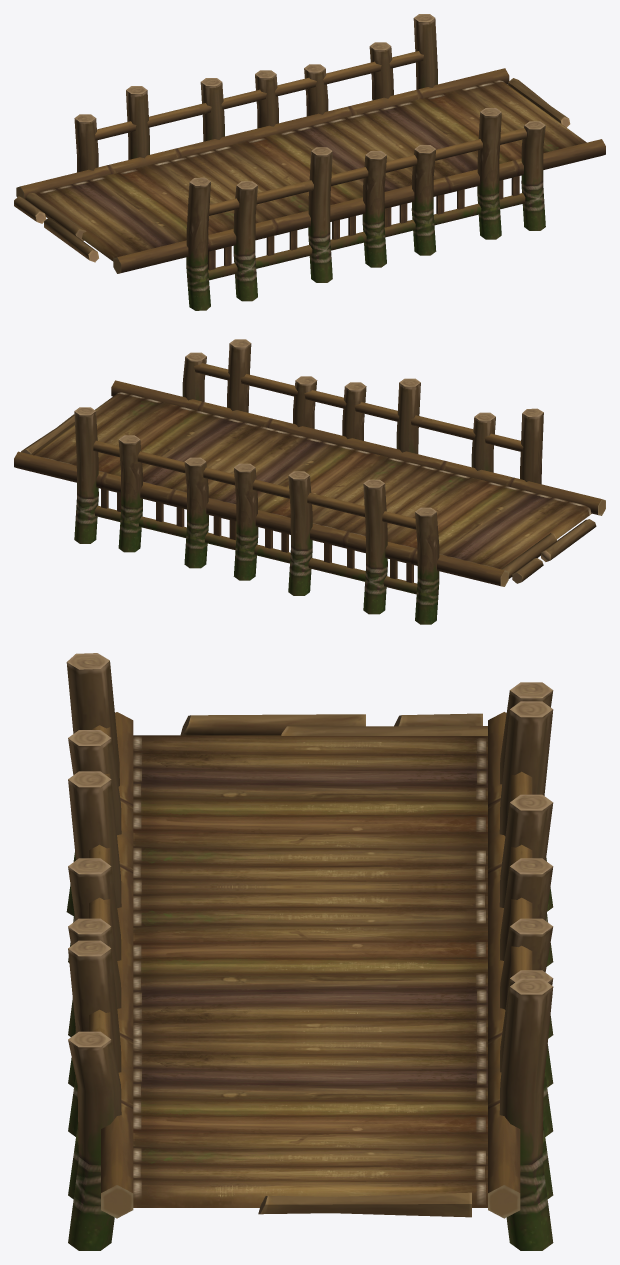
The model's file is Stage_CaoYuan_MuQiao02.FBX.
The picture shows the model from 3 angles, top to bottom: view 1: azimuth 30°, elevation 25°; view 2: azimuth 150°, elevation 25°; view 3: azimuth 270°, elevation 25°; orthographic projection. The views are drawn at different scales.
Visible parts, largest first — view 1: Stage_CaoYuan_MuQiao02; view 2: Stage_CaoYuan_MuQiao02; view 3: Stage_CaoYuan_MuQiao02.
Boxes of the visible parts, <box> form: Stage_CaoYuan_MuQiao02: <box>14,14,605,310</box>; Stage_CaoYuan_MuQiao02: <box>14,339,605,624</box>; Stage_CaoYuan_MuQiao02: <box>66,653,553,1250</box>.
Size of the model in its own units: 763 by 186 by 321.
